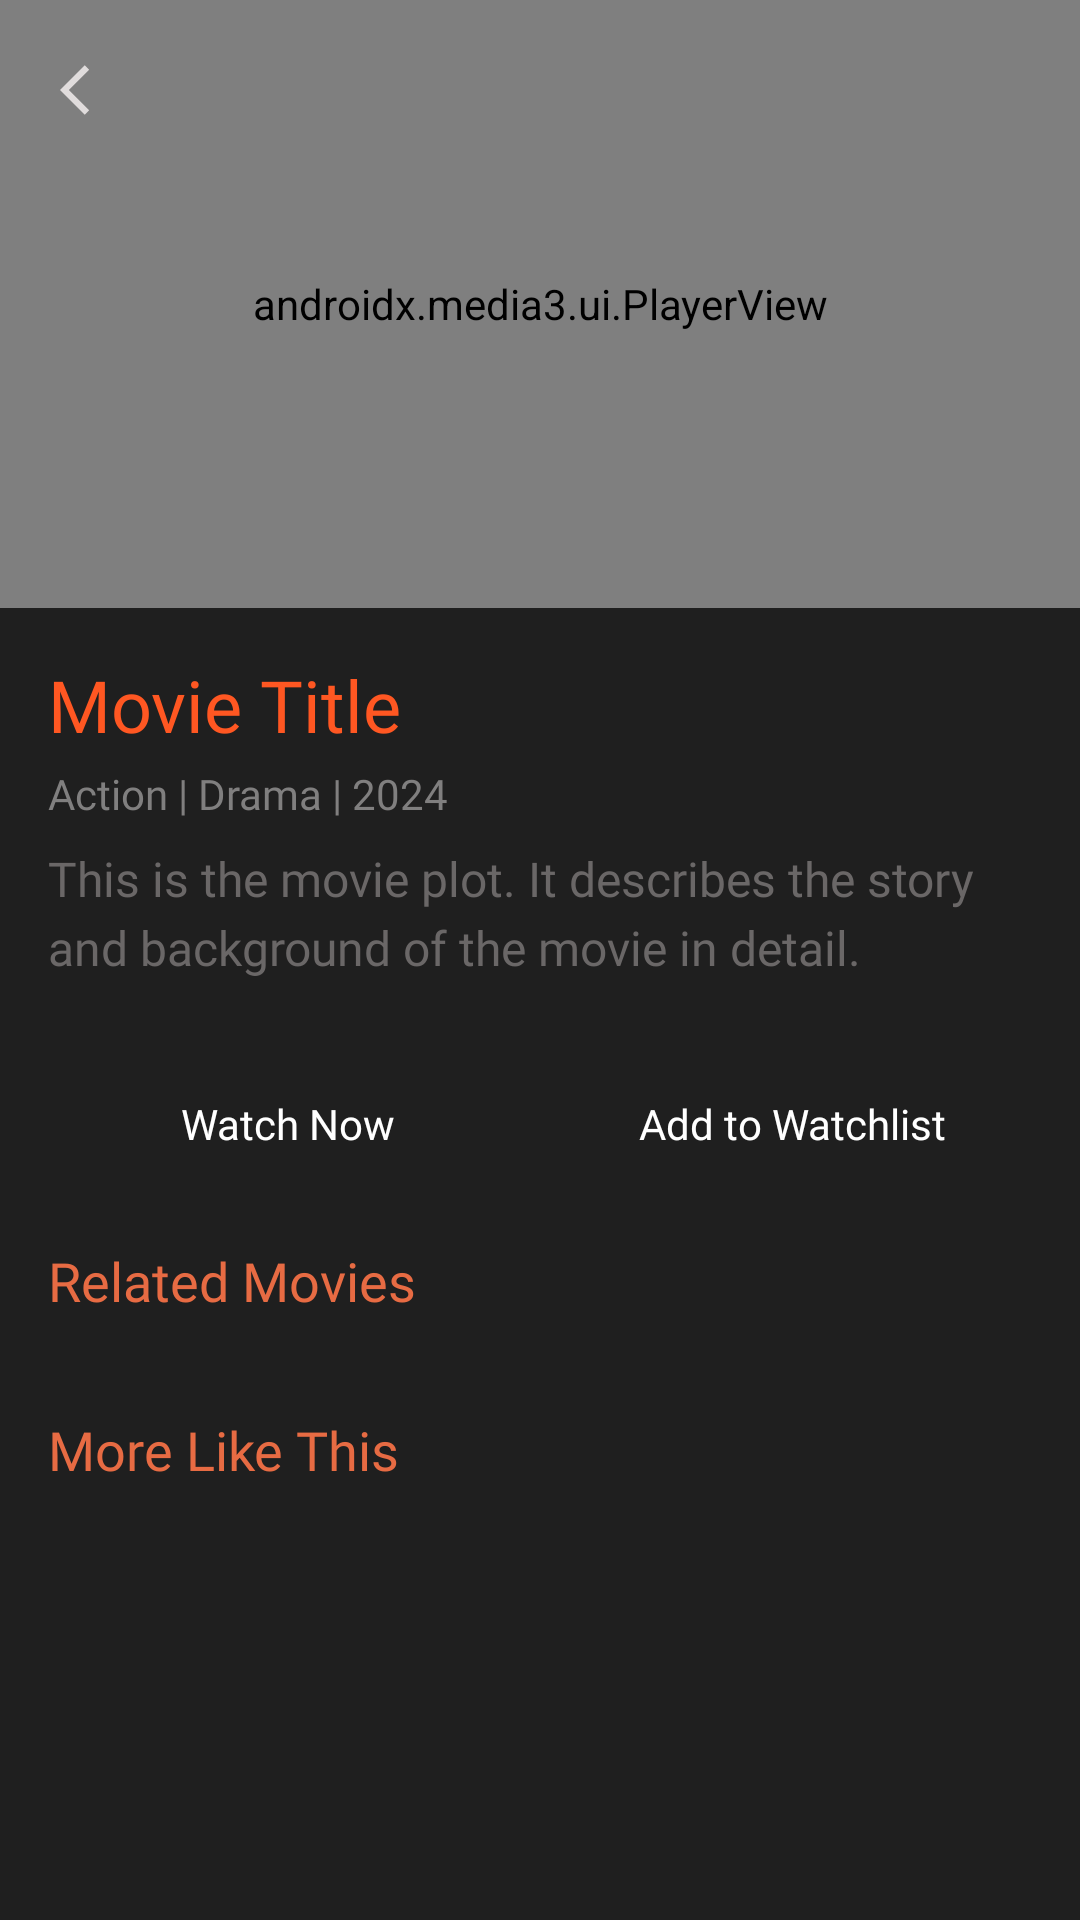

Where icons sit on this 1080 x 1920 app screen, as box(x1, y1, x2, y2):
Back: box(60, 65, 89, 115)
